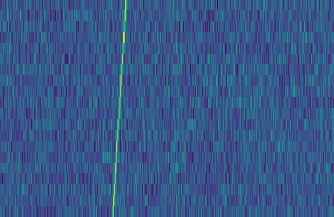signal: (106, 0, 129, 217)
